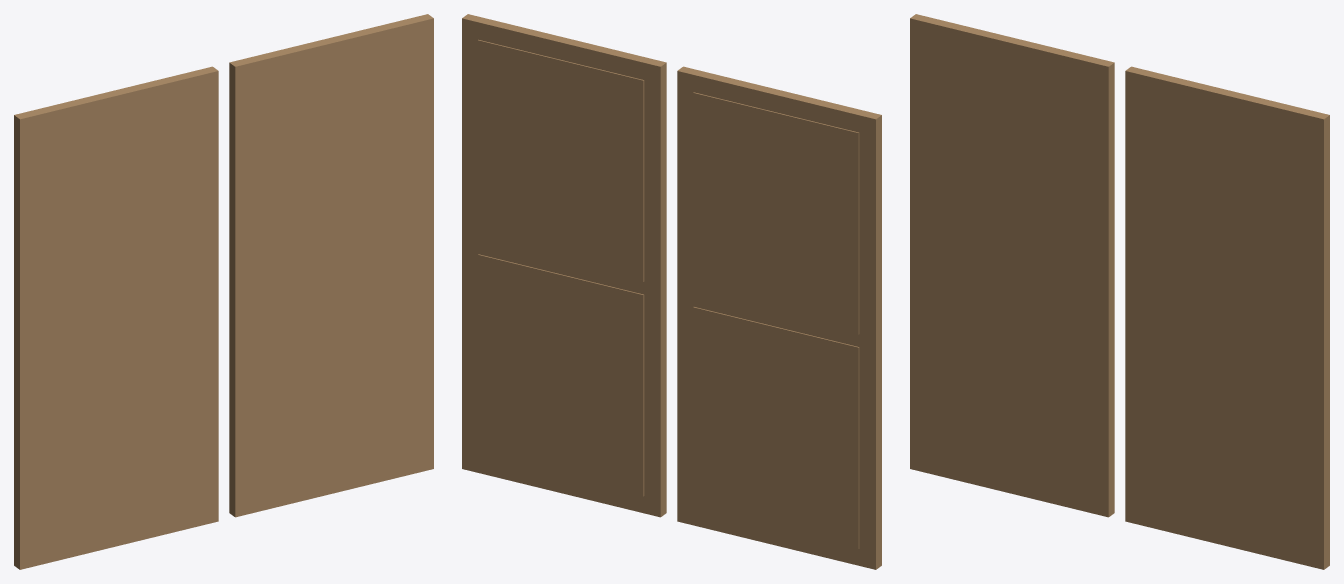
The model's file is Door_Staircase1.fbx.
The picture shows the model from 3 angles, left to right: view 1: azimuth 30°, elevation 25°; view 2: azimuth 150°, elevation 25°; view 3: azimuth 330°, elevation 25°; orthographic projection.
Visible parts, largest first — view 1: Door_Left, Door_Right; view 2: Door_Left, Door_Right; view 3: Door_Left, Door_Right.
Part boxes in pixels (bbox=[...]): Door_Left: bbox=[14, 66, 218, 569]; Door_Right: bbox=[229, 14, 433, 517]; Door_Left: bbox=[677, 66, 881, 569]; Door_Right: bbox=[462, 14, 666, 517]; Door_Left: bbox=[910, 14, 1114, 517]; Door_Right: bbox=[1125, 66, 1329, 569].
Bounding box in the file's own units: 2 × 2.08 × 0.056.
